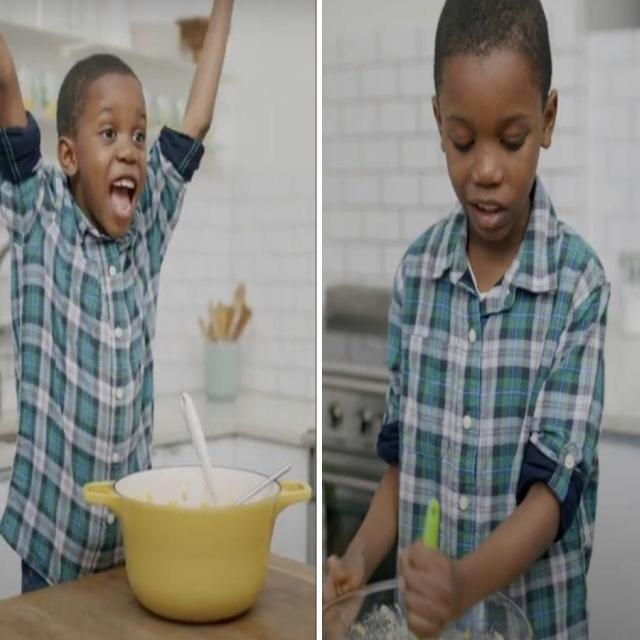child: (322, 0, 611, 637), (0, 0, 242, 594)
